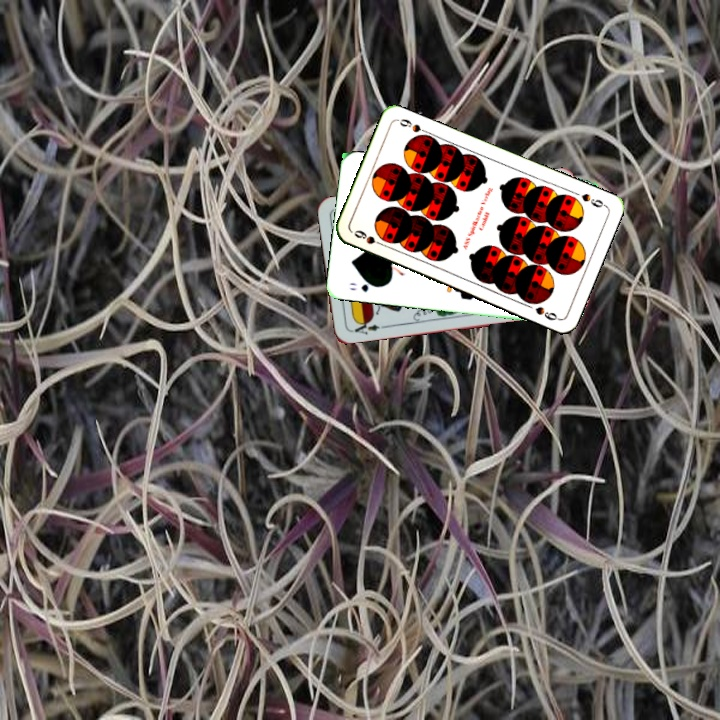EA: (351, 316, 387, 337)
GO: (345, 277, 382, 295)
S9: (350, 226, 388, 249), (577, 189, 608, 210)
